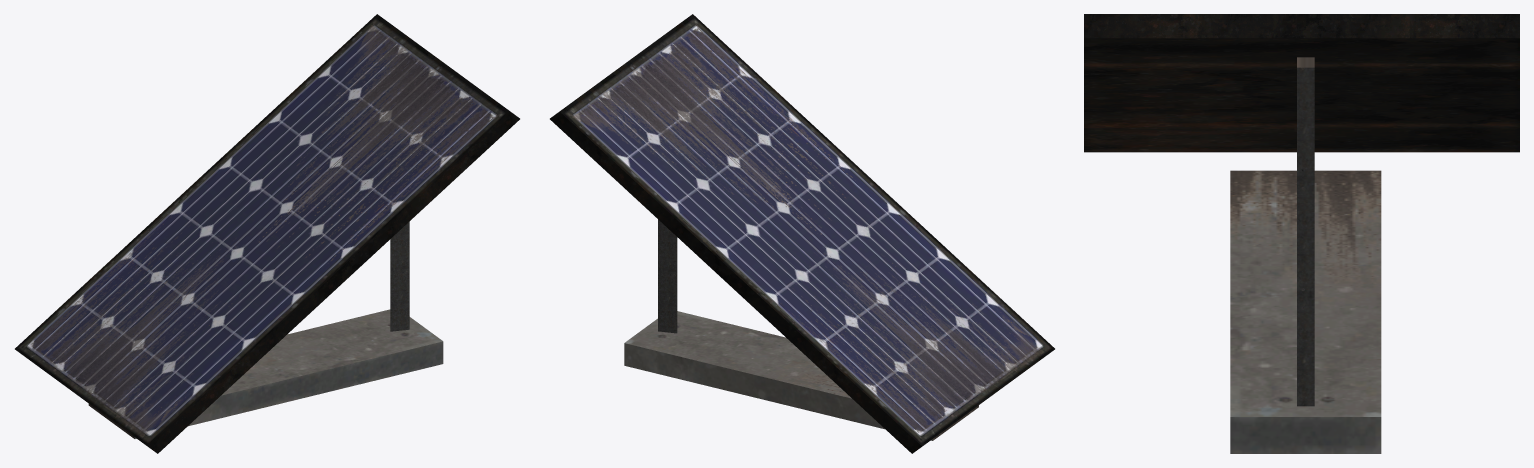
The model's file is панель.fbx.
3 views of the same model, side by side, from view 1: azimuth 30°, elevation 25°; view 2: azimuth 150°, elevation 25°; view 3: azimuth 270°, elevation 25° (orthographic). The views are drawn at different scales.
Visible parts, largest first — view 1: solar_panels_roof_LOD3; view 2: solar_panels_roof_LOD3; view 3: solar_panels_roof_LOD3.
Part boxes in pixels (bbox=[...]): solar_panels_roof_LOD3: bbox=[15, 14, 519, 453]; solar_panels_roof_LOD3: bbox=[550, 14, 1054, 453]; solar_panels_roof_LOD3: bbox=[1084, 14, 1519, 453].
Bounding box in the file's own units: 7760 × 5564 × 4800.
Materials: 1 (1 with a texture image).
